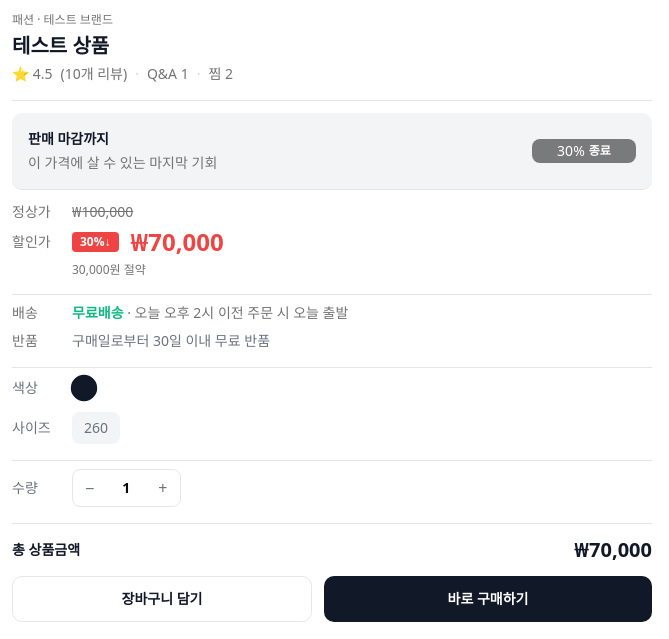
Scenario: DealInfos › 수량을 올리면 총 상품금액이 판매가 × 수량으로 바뀐다
The image size is (669, 639).
Click the button "+".
click(163, 488)  # box [146, 470, 180, 506]
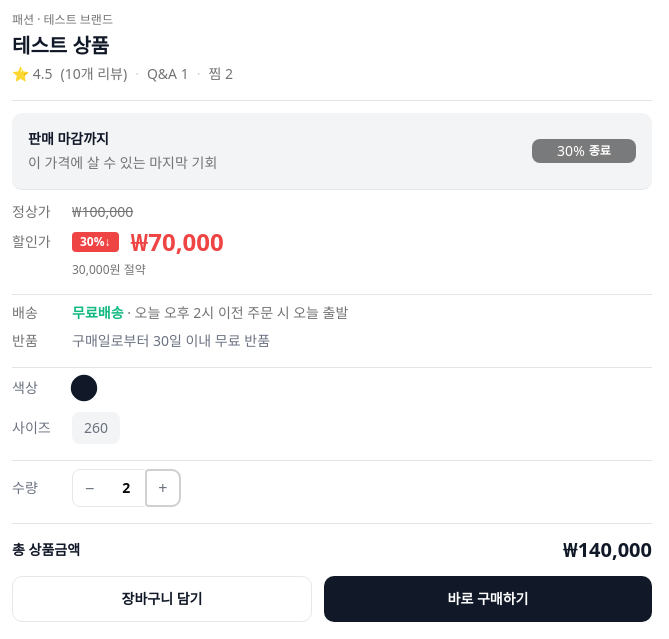
Check: the text "₩140,000" is shown, box [563, 536, 652, 564]
